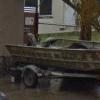Boat: (4, 26, 100, 89)
